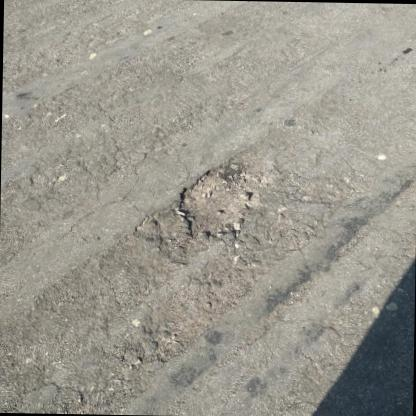pothole: (172, 160, 266, 244)
